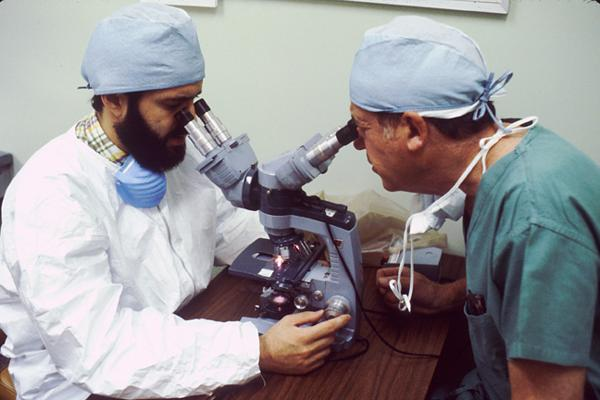person: (4, 6, 350, 399)
